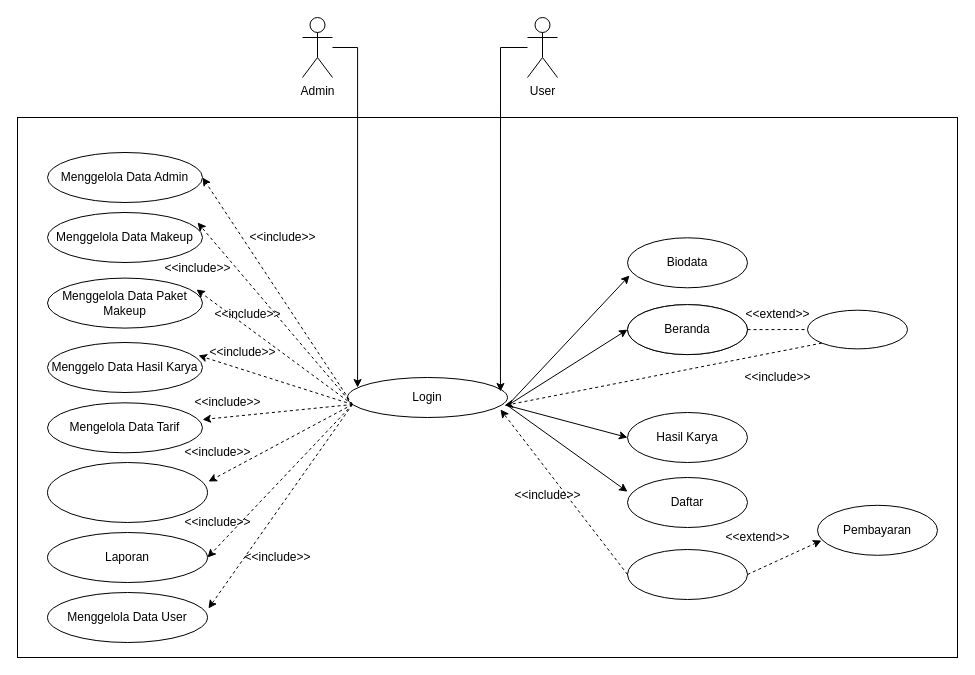
Some shapes in this 975 by 675 pixel diagram are drawn without their labels. Here are the shapes that lost their labels. From the top down, the box of each, then its label:
(806, 309, 908, 349): Daftar Booking
(46, 462, 208, 522): Menggelola Data Jadwal Pemesanan
(626, 548, 748, 600): Riwayat Booking
